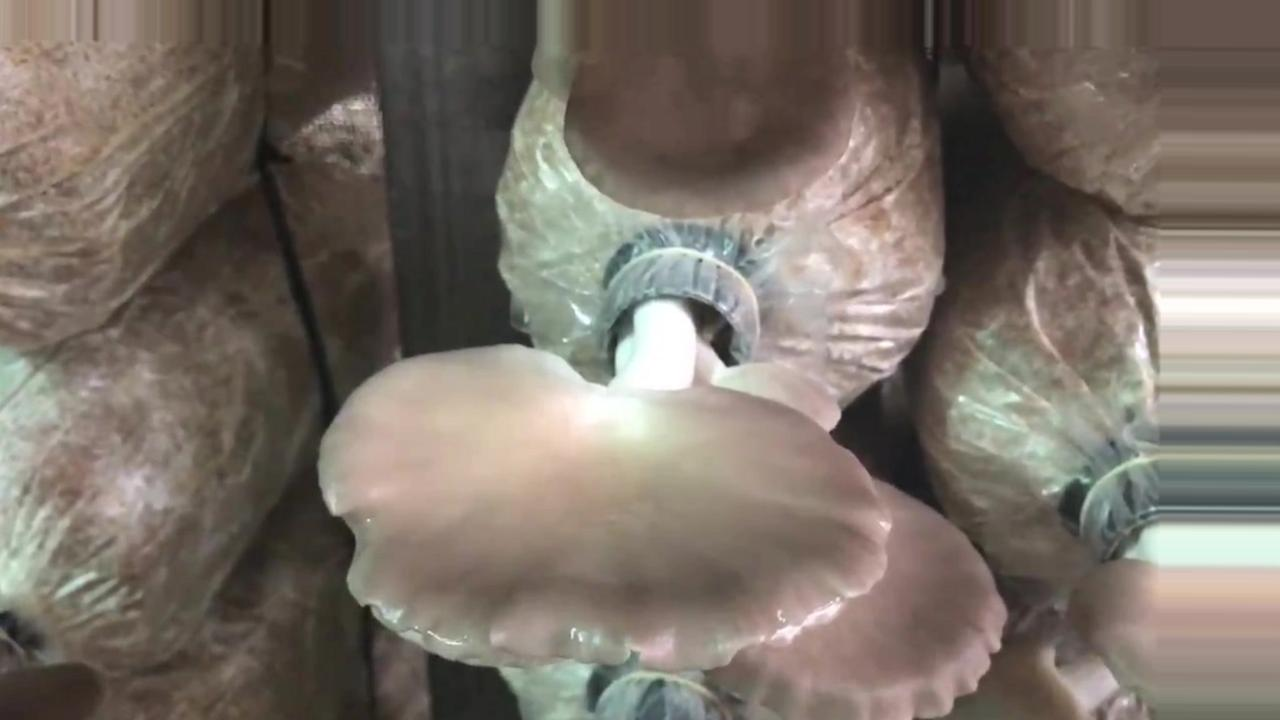nam: (316, 217, 896, 673), (713, 480, 1007, 720), (563, 60, 863, 212), (996, 470, 1151, 720)
